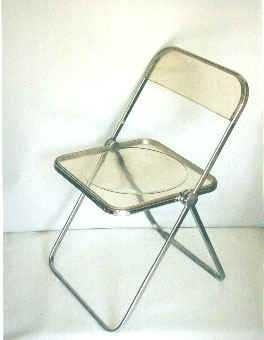obstacle: (49, 46, 248, 330)
